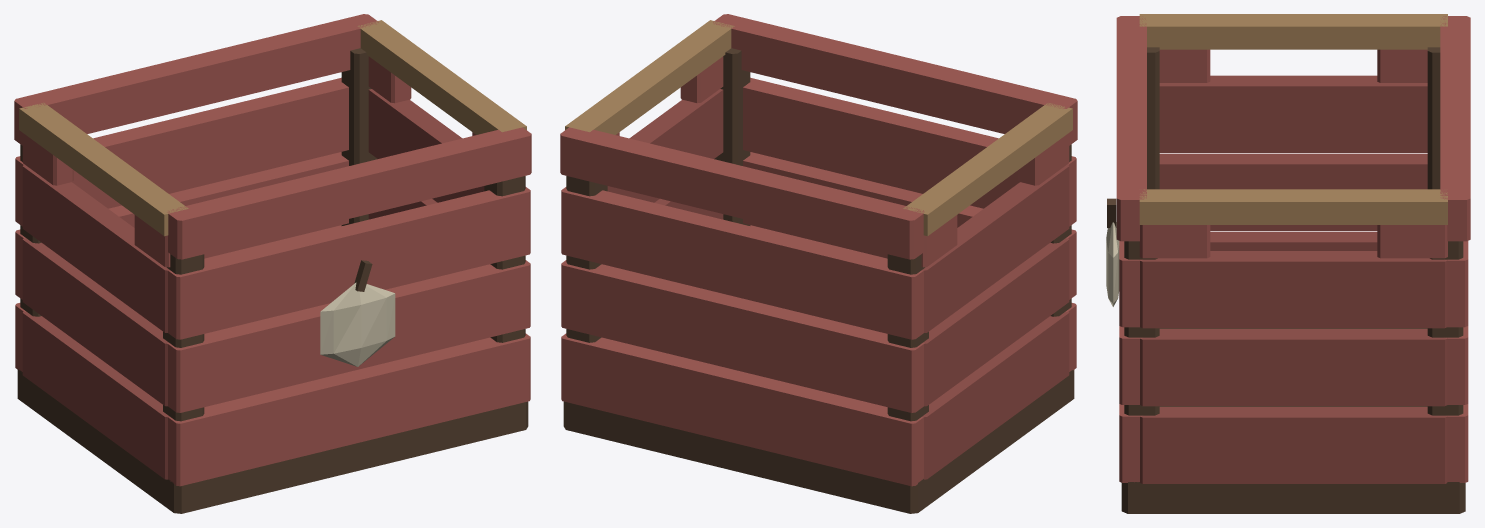
File: sort_bin_red.glb
3 renders of one model, left to right at view 1: azimuth 30°, elevation 25°; view 2: azimuth 150°, elevation 25°; view 3: azimuth 270°, elevation 25°, orthographic. The views are drawn at different scales.
Parts seen in each view (by area): view 1: geometry; view 2: geometry; view 3: geometry.
Part boxes in pixels (<box>): geometry: <box>14,14,531,513</box>; geometry: <box>560,14,1077,513</box>; geometry: <box>1106,14,1470,513</box>.
Bounding box in the file's own units: 0.88 × 0.685 × 0.7209.
